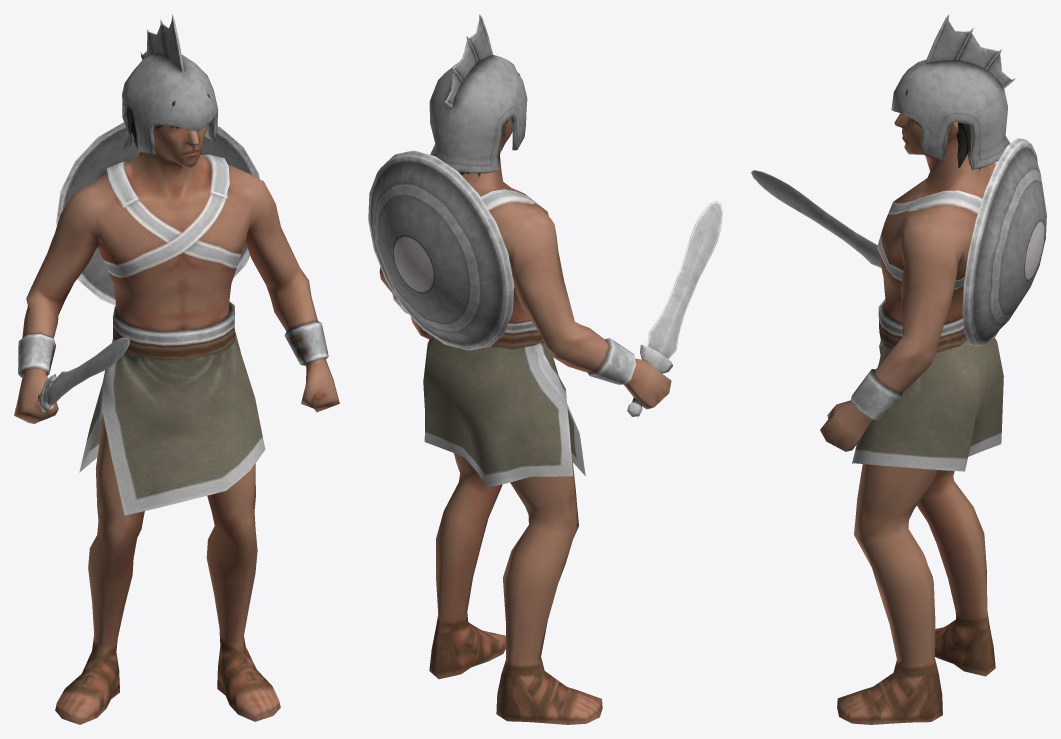
Rendered from 37-fanatic.glb.
The picture shows the model from 3 angles, left to right: view 1: azimuth 30°, elevation 25°; view 2: azimuth 150°, elevation 25°; view 3: azimuth 270°, elevation 25°; orthographic projection.
Bounding box in the file's own units: 0.9933 × 2.22 × 0.8746.
4 materials, 4 textured.
